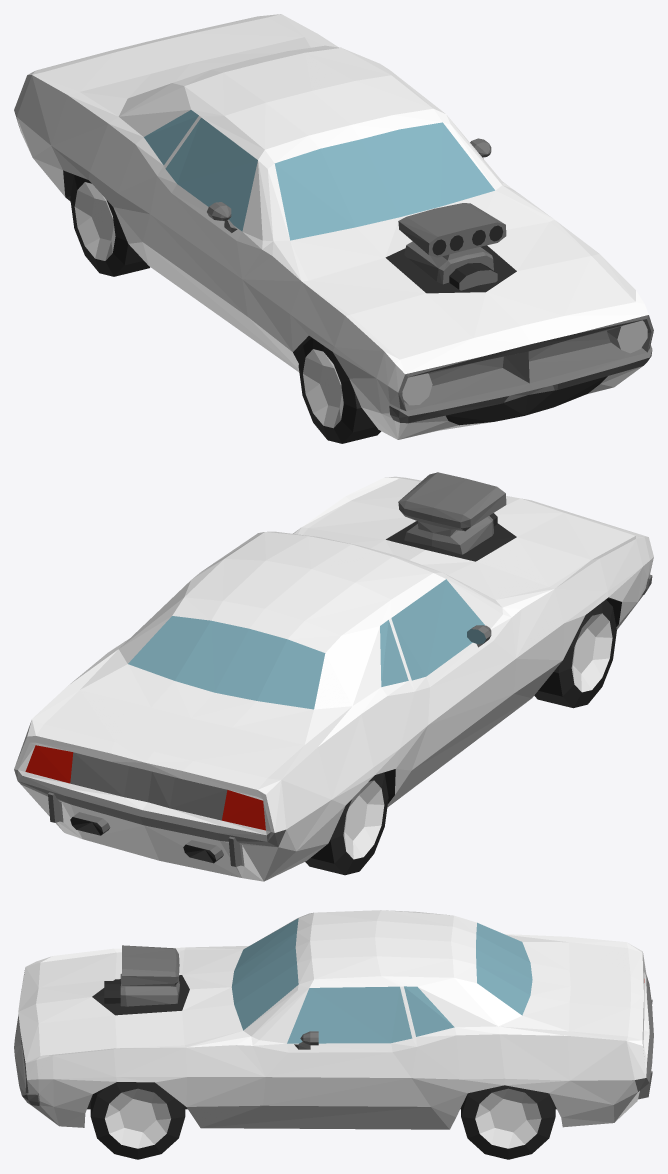
Rendered from Sport_8.FBX.
The picture shows the model from 3 angles, top to bottom: view 1: azimuth 30°, elevation 25°; view 2: azimuth 150°, elevation 25°; view 3: azimuth 270°, elevation 25°; orthographic projection. The views are drawn at different scales.
Parts seen in each view (by area): view 1: Sport_8, Wheel_FR, Wheel_RR; view 2: Sport_8, Wheel_FR, Wheel_RR; view 3: Sport_8, Wheel_FL, Wheel_RL.
Boxes of the visible parts, bbox=[...] form: Sport_8: bbox=[14, 14, 653, 439]; Wheel_FR: bbox=[298, 338, 381, 443]; Wheel_RR: bbox=[70, 175, 149, 276]; Sport_8: bbox=[14, 472, 653, 881]; Wheel_FR: bbox=[534, 599, 616, 708]; Wheel_RR: bbox=[305, 772, 388, 875]; Sport_8: bbox=[14, 910, 653, 1129]; Wheel_FL: bbox=[90, 1082, 185, 1159]; Wheel_RL: bbox=[461, 1085, 555, 1159].
Bounding box in the file's own units: 188 × 132 × 448.
